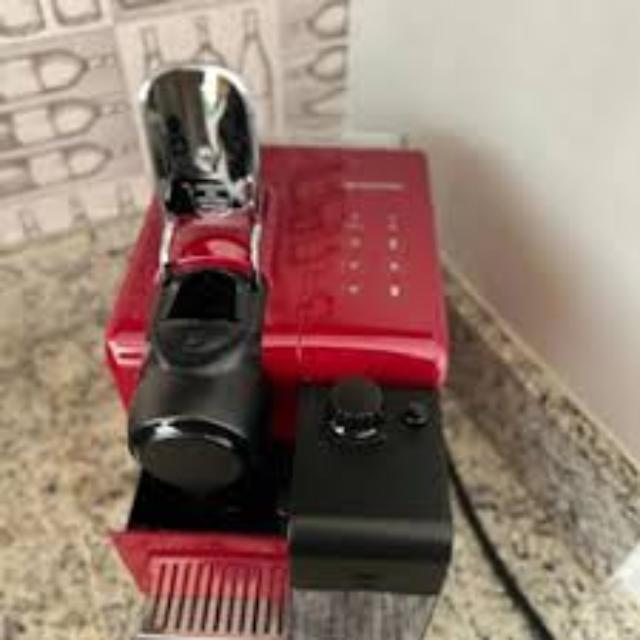Coffee-Machine: (96, 56, 462, 640)
